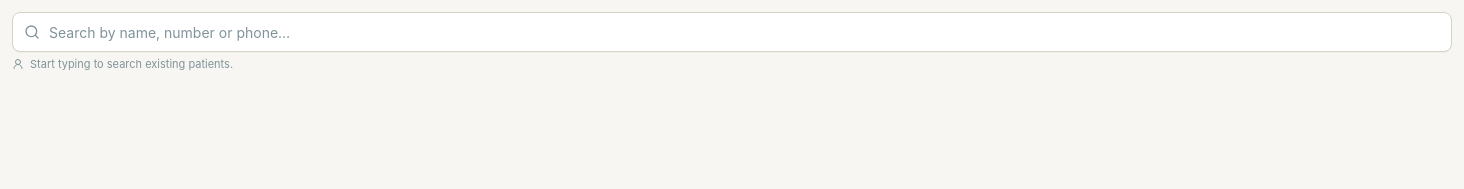
Test: patient combobox keyboard navigation › closes the list on Escape
The image size is (1464, 189).
Type "Ja" into the dropdown.
click(732, 32); type("Ja")  # box [12,12,1452,52]
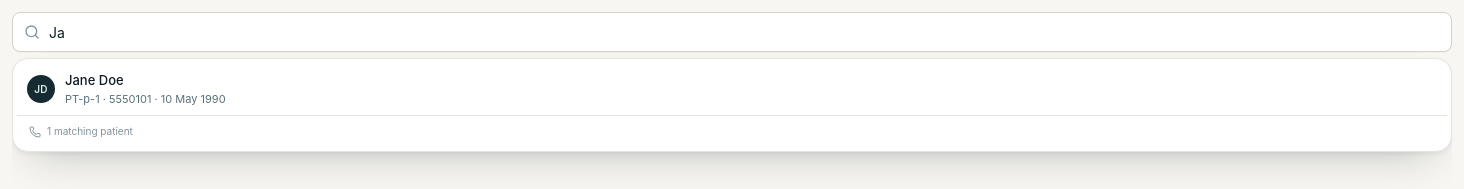
Press Escape in the dropdown, box [12,12,1452,52]
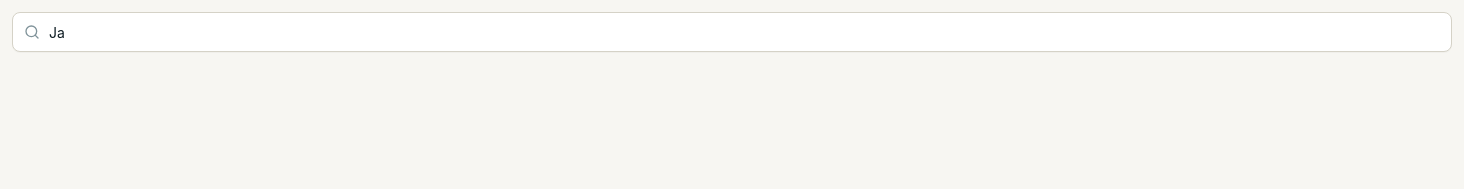
Expected: the list is gone
